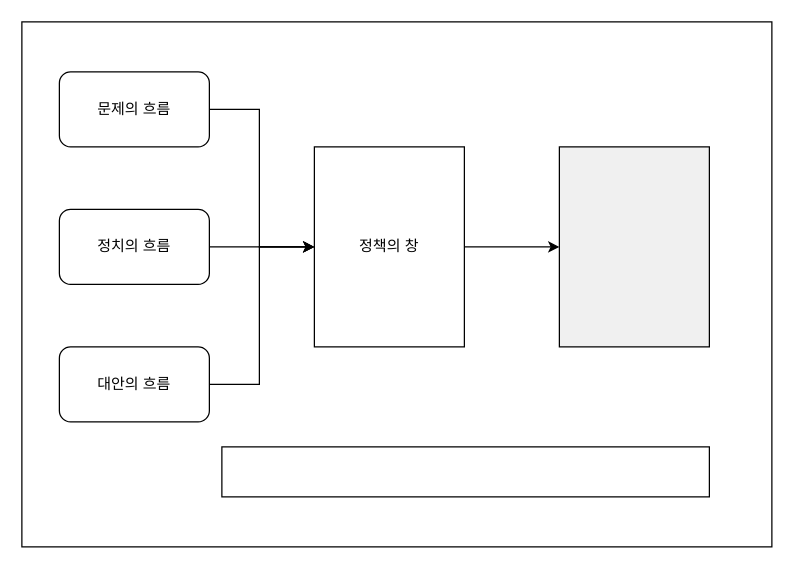
This 794x569 diagram has some shape labels left out. Here are the shapes that lost their labels. From the top down, the box of each, then its label:
(558, 146, 709, 347): 정 책 결 정
(221, 446, 709, 497): 정 책 선 도 가
